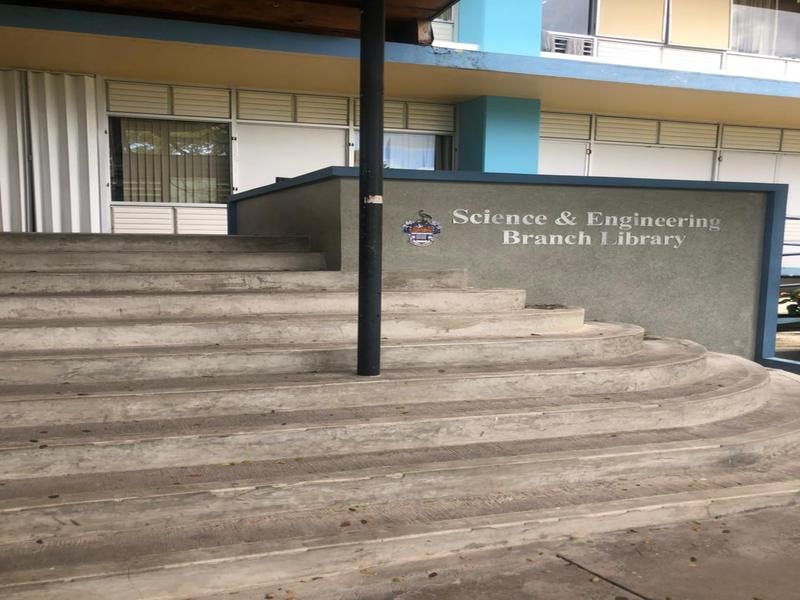st_label: (402, 185, 734, 292)
